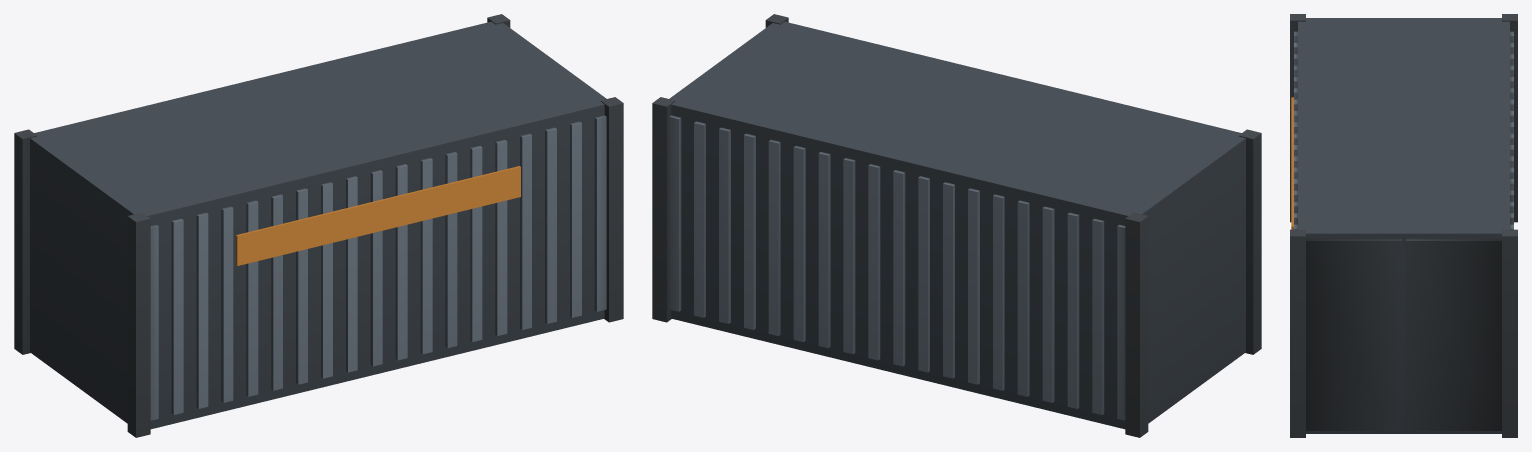
The model's file is obj_contenedor.glb.
The picture shows the model from 3 angles, left to right: view 1: azimuth 30°, elevation 25°; view 2: azimuth 150°, elevation 25°; view 3: azimuth 270°, elevation 25°; orthographic projection. The views are drawn at different scales.
Parts seen in each view (by area): view 1: propforge-cuartos-contenedor; view 2: propforge-cuartos-contenedor; view 3: propforge-cuartos-contenedor.
Part boxes in pixels (x1,y1,x2,y2): propforge-cuartos-contenedor: (14, 14, 623, 437); propforge-cuartos-contenedor: (652, 14, 1261, 437); propforge-cuartos-contenedor: (1290, 14, 1517, 437).
Bounding box in the file's own units: 1.01 × 0.4284 × 0.4386.
